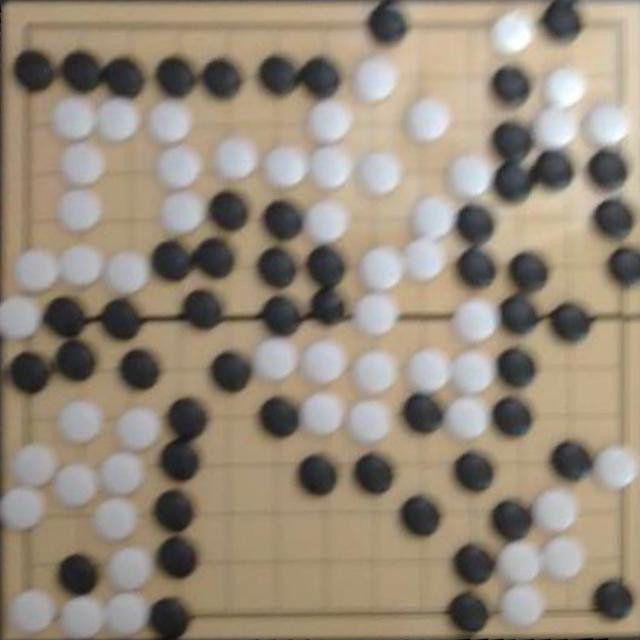blackstone: (101, 297, 143, 340), (551, 439, 593, 482), (153, 488, 195, 530), (260, 396, 302, 438), (167, 397, 209, 439), (44, 296, 86, 338), (102, 56, 144, 98), (56, 339, 97, 382), (10, 351, 51, 394), (531, 149, 575, 189), (160, 440, 202, 481), (58, 553, 99, 595), (448, 592, 490, 633), (193, 238, 236, 278), (454, 451, 495, 492), (62, 51, 103, 92), (14, 50, 55, 91), (149, 597, 191, 637), (157, 536, 198, 576), (454, 544, 495, 584), (183, 289, 224, 329), (492, 500, 533, 540), (500, 292, 540, 333), (152, 240, 192, 281), (494, 159, 534, 200), (209, 190, 250, 230), (541, 0, 583, 39), (120, 349, 160, 389), (307, 244, 347, 284), (594, 198, 634, 238), (368, 2, 408, 42), (404, 393, 444, 433), (401, 495, 441, 535), (212, 352, 252, 392), (258, 247, 298, 287), (156, 56, 196, 96), (588, 149, 628, 189), (298, 56, 339, 95), (264, 200, 305, 239), (299, 455, 338, 495), (594, 580, 633, 620), (355, 454, 394, 494), (457, 247, 498, 285), (550, 303, 591, 341), (262, 295, 301, 334), (259, 55, 298, 94), (203, 58, 242, 97), (493, 397, 533, 435), (493, 121, 533, 158), (509, 251, 549, 288), (456, 203, 496, 240), (497, 348, 535, 386), (492, 66, 530, 102), (310, 288, 347, 324), (608, 246, 640, 284)
whitestone: (56, 398, 104, 444), (92, 497, 138, 543), (489, 9, 535, 55), (106, 546, 152, 592), (8, 588, 54, 634), (159, 190, 206, 235), (444, 396, 489, 442), (452, 298, 498, 343), (59, 142, 105, 187), (403, 97, 449, 142), (214, 136, 259, 182), (10, 443, 55, 488), (57, 188, 103, 232), (156, 144, 202, 188), (104, 250, 150, 294), (115, 408, 161, 452), (352, 58, 398, 102), (306, 98, 352, 142), (534, 488, 578, 533), (0, 486, 45, 530), (351, 350, 396, 394), (58, 242, 103, 286), (100, 452, 145, 496), (357, 152, 402, 196), (448, 153, 492, 198), (593, 445, 636, 491), (54, 463, 98, 507), (499, 584, 543, 628), (14, 248, 58, 292), (404, 348, 448, 392), (348, 400, 392, 444), (302, 340, 346, 384), (96, 98, 140, 142), (352, 293, 397, 336), (53, 96, 96, 141), (0, 294, 42, 340), (450, 350, 493, 394), (252, 338, 295, 382), (412, 195, 456, 238), (148, 100, 192, 143), (60, 595, 104, 638), (301, 392, 343, 437), (308, 145, 350, 189), (104, 592, 146, 636), (498, 541, 542, 583), (358, 247, 402, 289), (305, 199, 349, 241), (586, 103, 630, 145), (542, 536, 584, 579), (264, 145, 307, 187), (534, 106, 578, 147), (403, 238, 445, 280), (542, 68, 585, 107)
